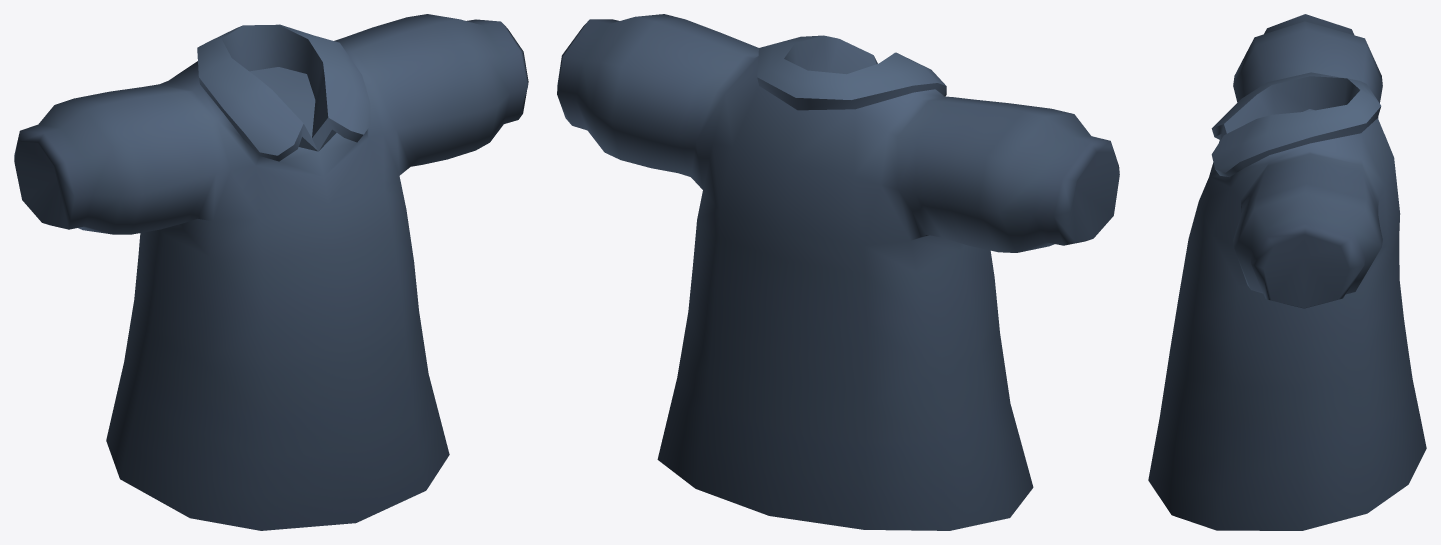
Rendered from Top_51.fbx.
The picture shows the model from 3 angles, left to right: view 1: azimuth 30°, elevation 25°; view 2: azimuth 150°, elevation 25°; view 3: azimuth 270°, elevation 25°; orthographic projection. The views are drawn at different scales.
Visible parts, largest first — view 1: Top_51; view 2: Top_51; view 3: Top_51.
Boxes of the visible parts, <box> form: Top_51: <box>14,14,528,530</box>; Top_51: <box>557,14,1119,530</box>; Top_51: <box>1148,14,1426,530</box>.
Size of the model in its own units: 76.42 by 64.46 by 41.67.
